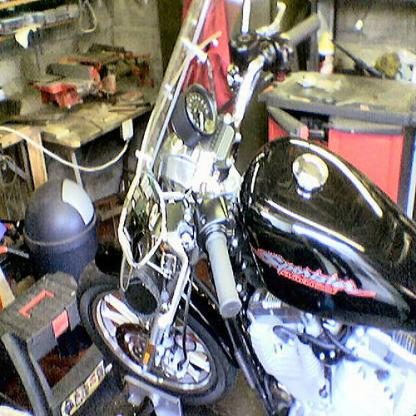motorbike: (74, 0, 415, 415)
